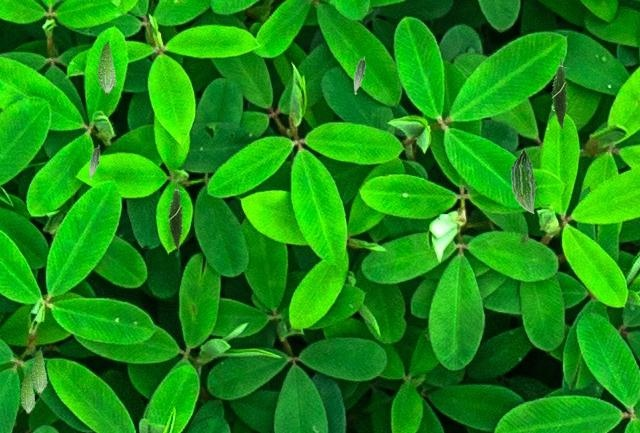ampalaya: (509, 147, 537, 214), (550, 57, 569, 130), (166, 181, 185, 251), (96, 39, 117, 95), (30, 346, 48, 395), (19, 369, 36, 414), (353, 56, 366, 94), (88, 144, 100, 180)
